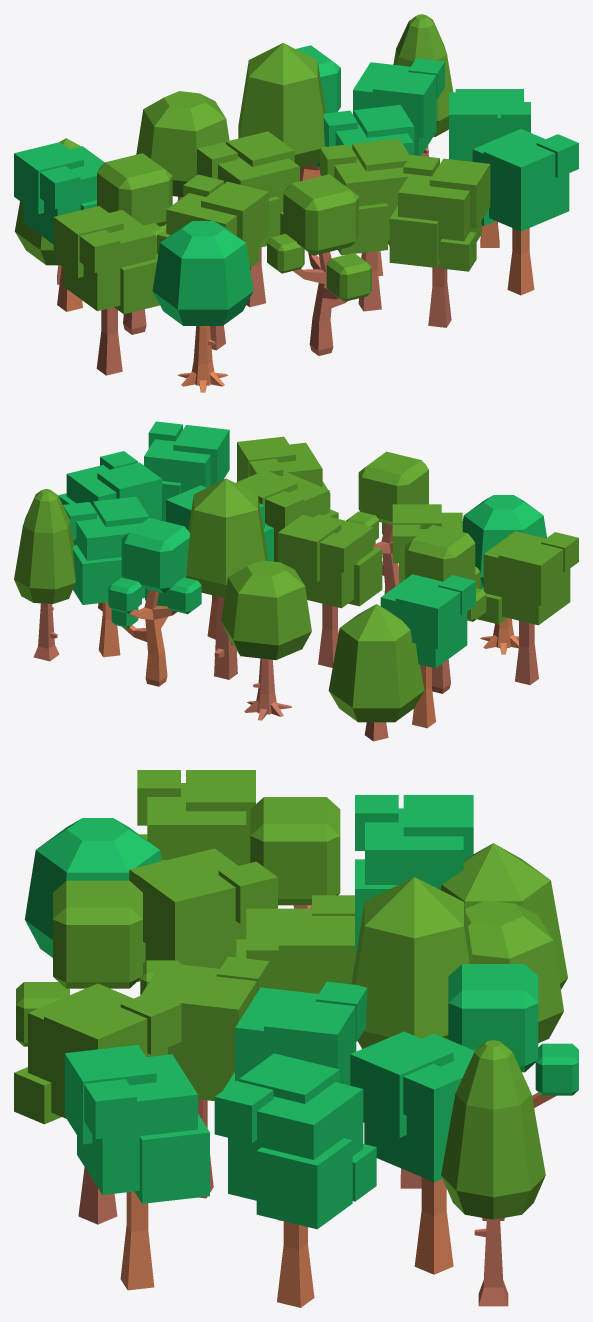
Rendered from trees_1.fbx.
The picture shows the model from 3 angles, top to bottom: view 1: azimuth 30°, elevation 25°; view 2: azimuth 150°, elevation 25°; view 3: azimuth 270°, elevation 25°; orthographic projection. The views are drawn at different scales.
Visible parts, largest first — view 1: mergedBlocks; view 2: mergedBlocks; view 3: mergedBlocks.
Part boxes in pixels (box(x1,y1,x2,y2)): mergedBlocks: box(14, 14, 578, 392); mergedBlocks: box(14, 421, 578, 741); mergedBlocks: box(14, 770, 578, 1307).
Size of the model in its own units: 42.1 by 17.08 by 28.57.
